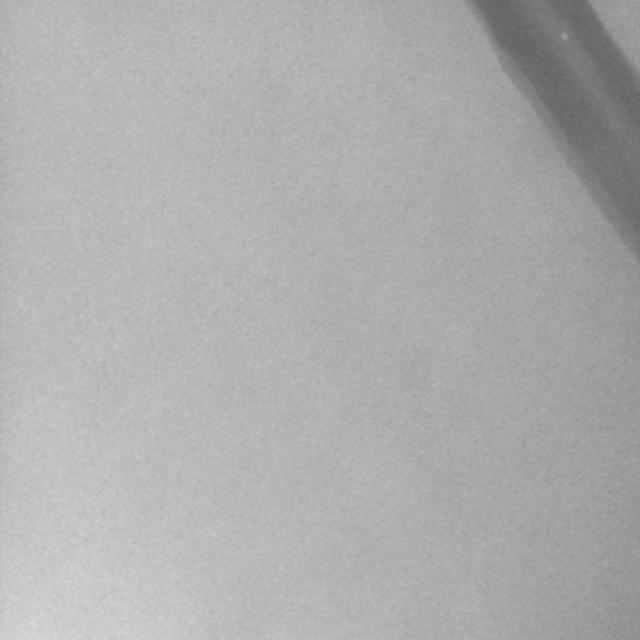air hole: (558, 28, 570, 42)
